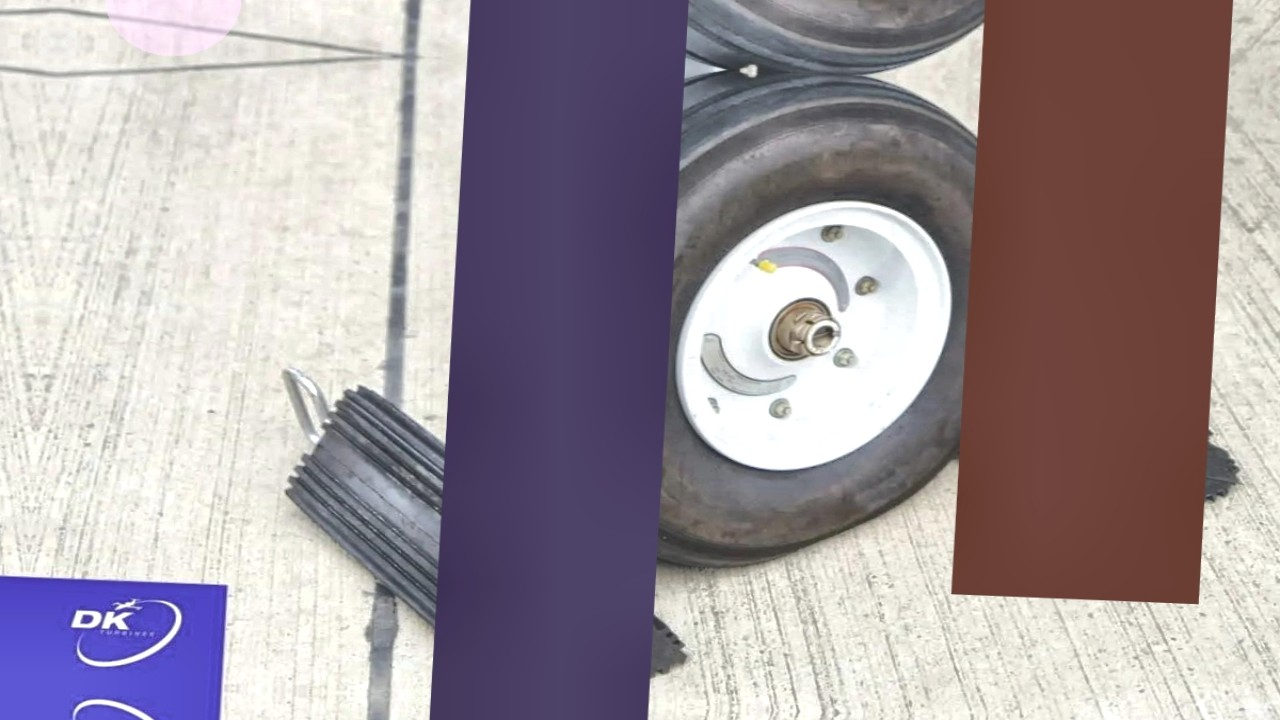chock: (221, 377, 705, 707), (910, 309, 1253, 538)
wheel: (456, 60, 1039, 576)
